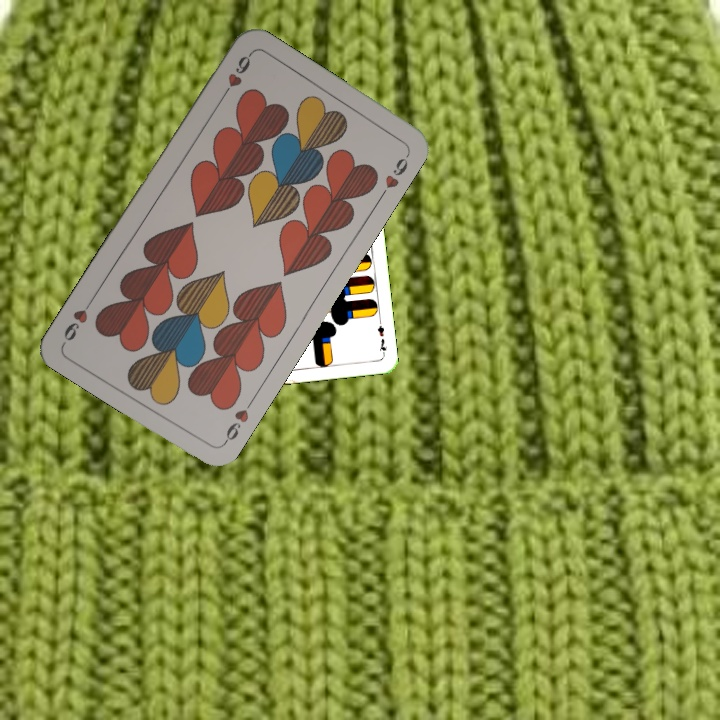E7: (374, 317, 390, 357)
H9: (216, 50, 254, 103), (219, 395, 257, 448)
